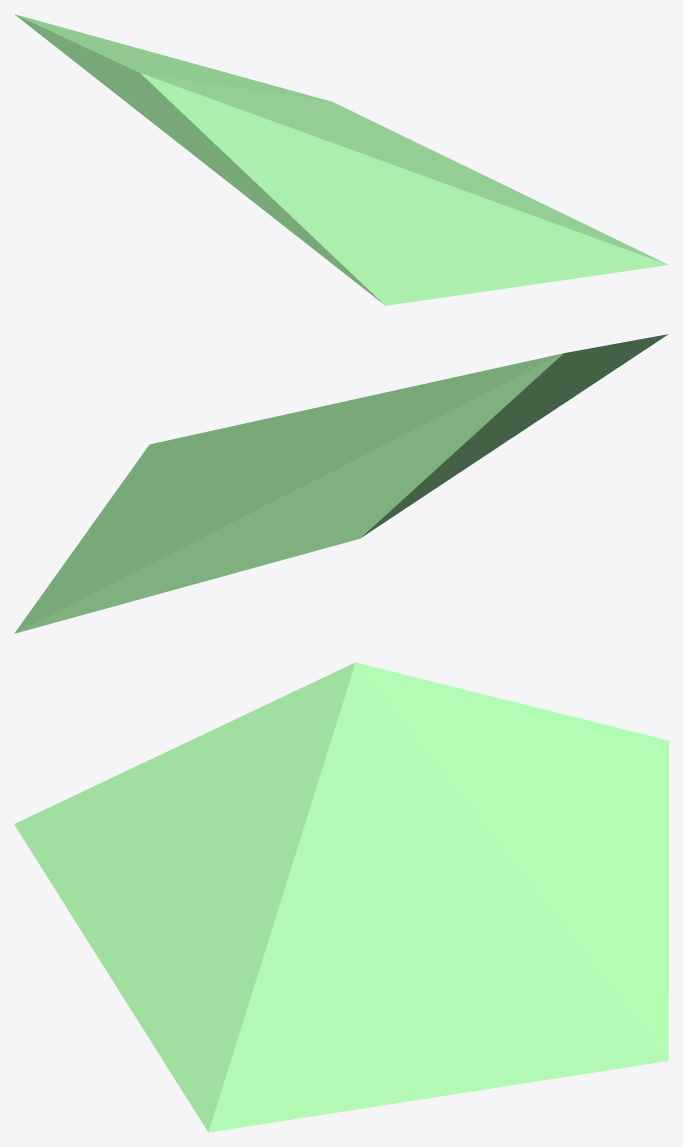
The model's file is linkhou_LR4_R560_link6_respondable_coll_26.dae.
3 renders of one model, top to bottom at view 1: azimuth 30°, elevation 25°; view 2: azimuth 150°, elevation 25°; view 3: azimuth 270°, elevation 25°, orthographic. The views are drawn at different scales.
Parts seen in each view (by area): view 1: Node_00000209DB3AD090; view 2: Node_00000209DB3AD090; view 3: Node_00000209DB3AD090.
Part boxes in pixels (bbox=[...]): Node_00000209DB3AD090: bbox=[14, 14, 668, 305]; Node_00000209DB3AD090: bbox=[14, 334, 668, 633]; Node_00000209DB3AD090: bbox=[14, 662, 668, 1132].
Bounding box in the file's own units: 0.0266 × 0.0139 × 0.0332.
